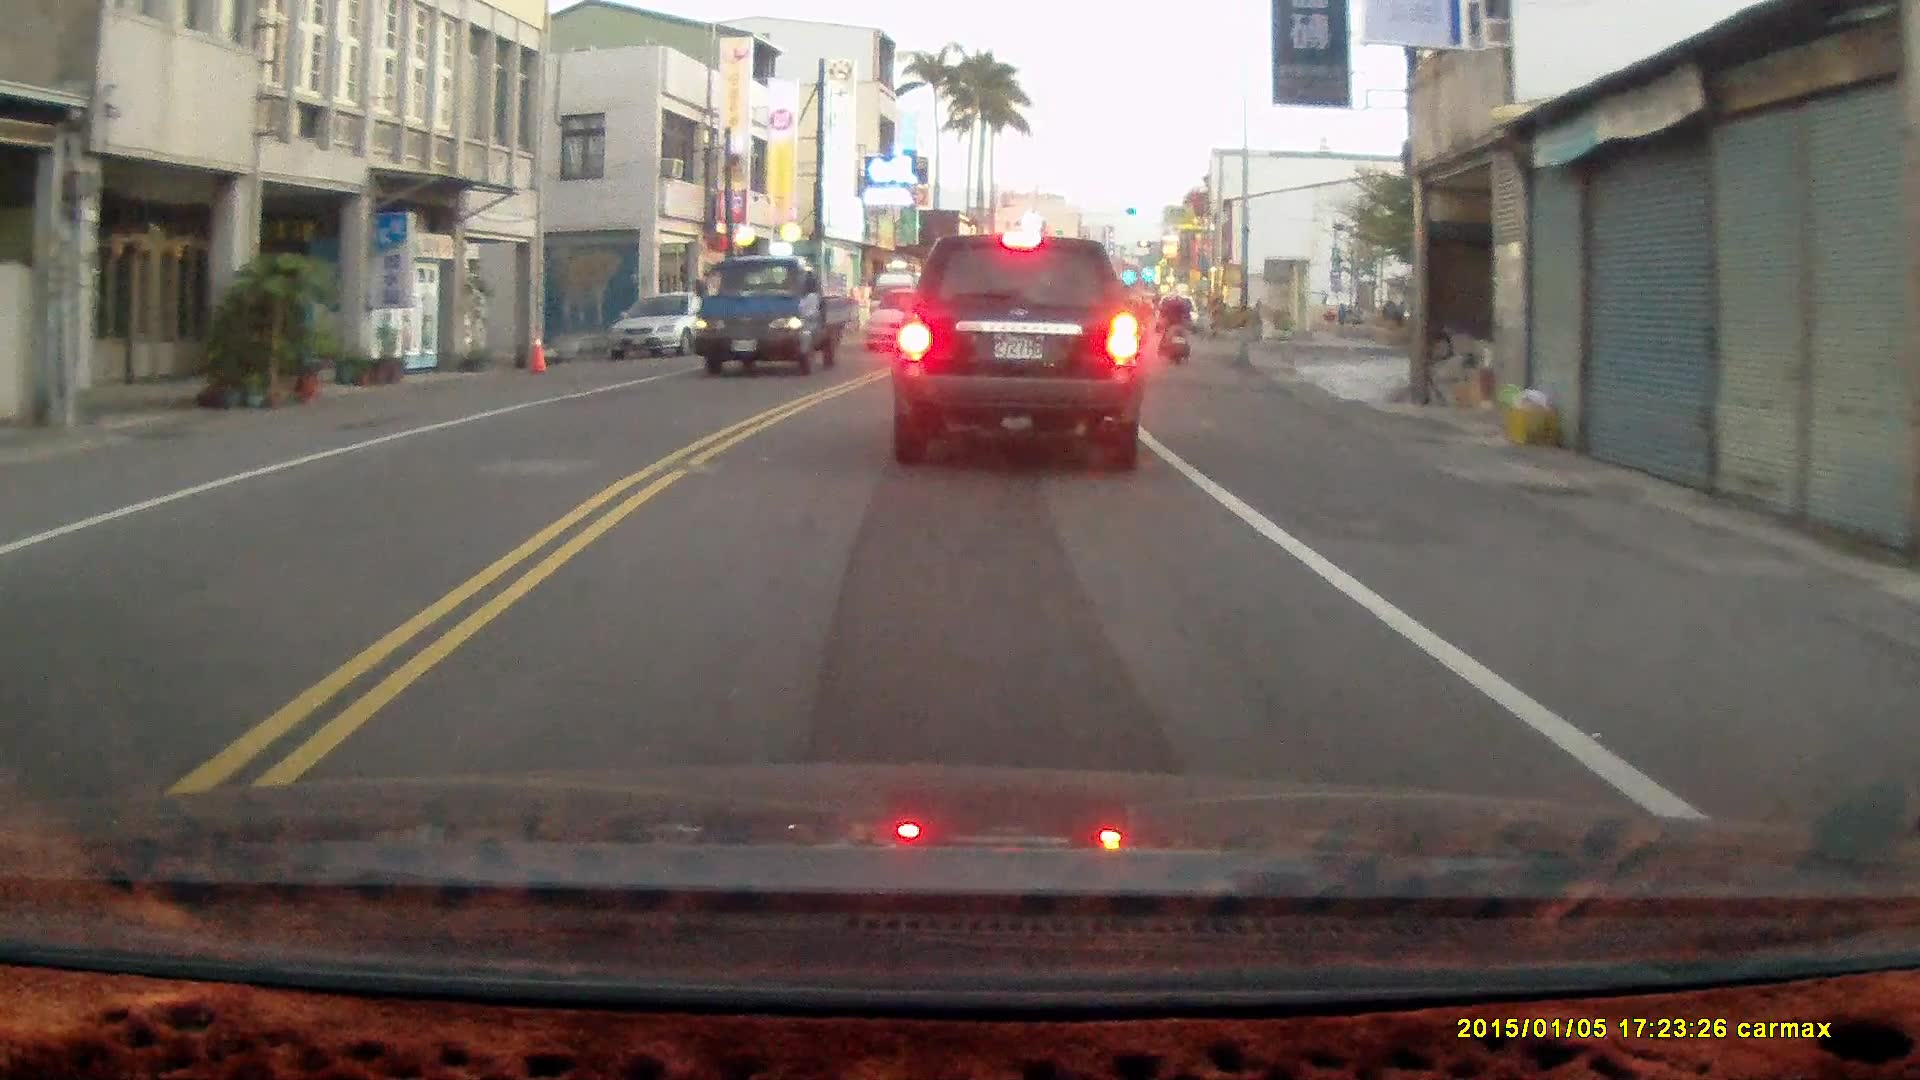rider: (1158, 280, 1189, 362)
vehicle: (891, 228, 1147, 469), (692, 250, 851, 377), (599, 291, 737, 360), (864, 288, 944, 357)
